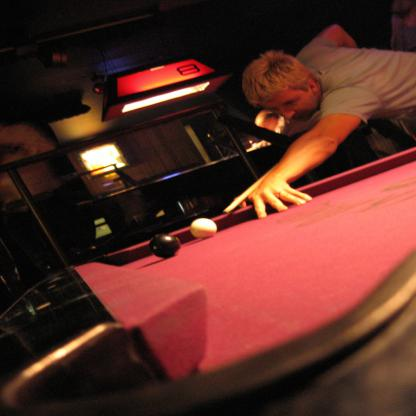Ball: (150, 234, 181, 259), (189, 217, 217, 239)
